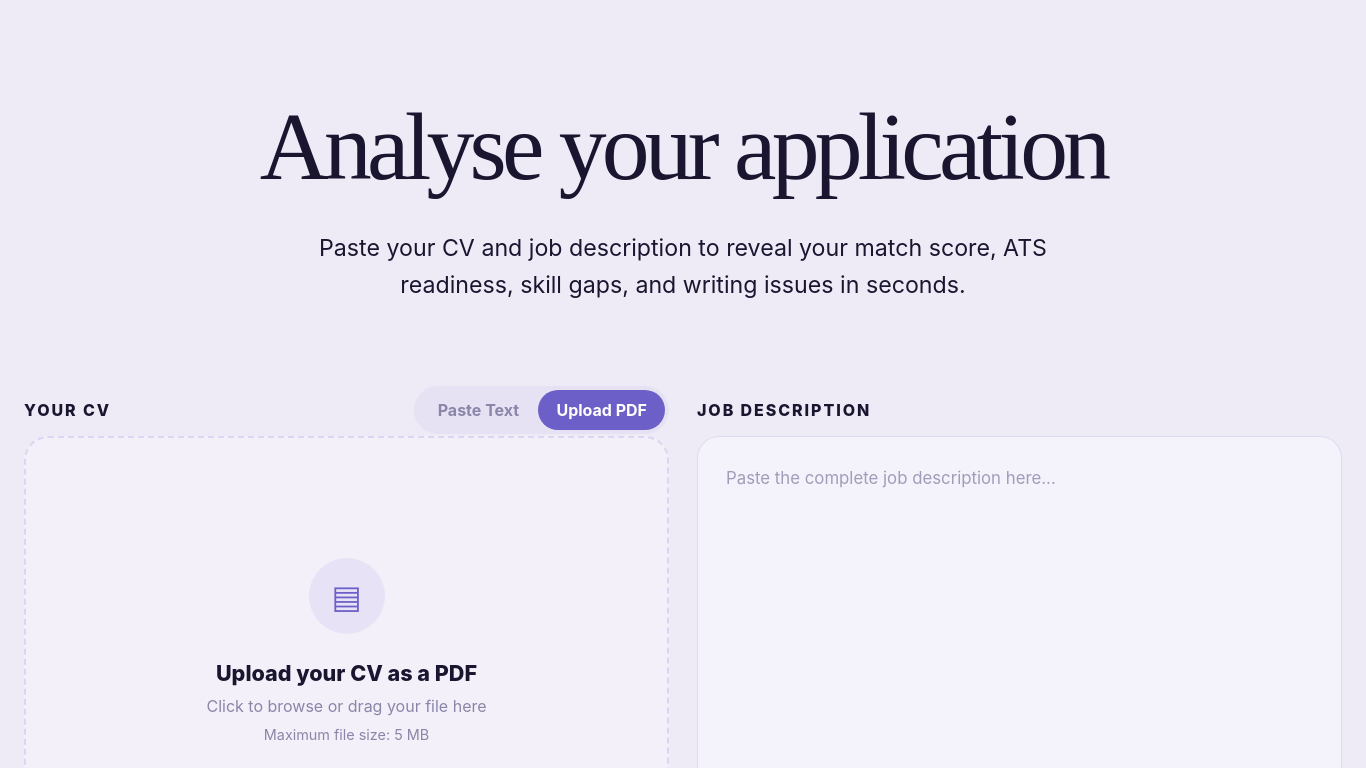
it: App › submits pasted CV text and displays analysis results
The image size is (1366, 768).
Click the button "Paste Text": click(478, 410) 418,390 -> 538,430
(page scrolled)
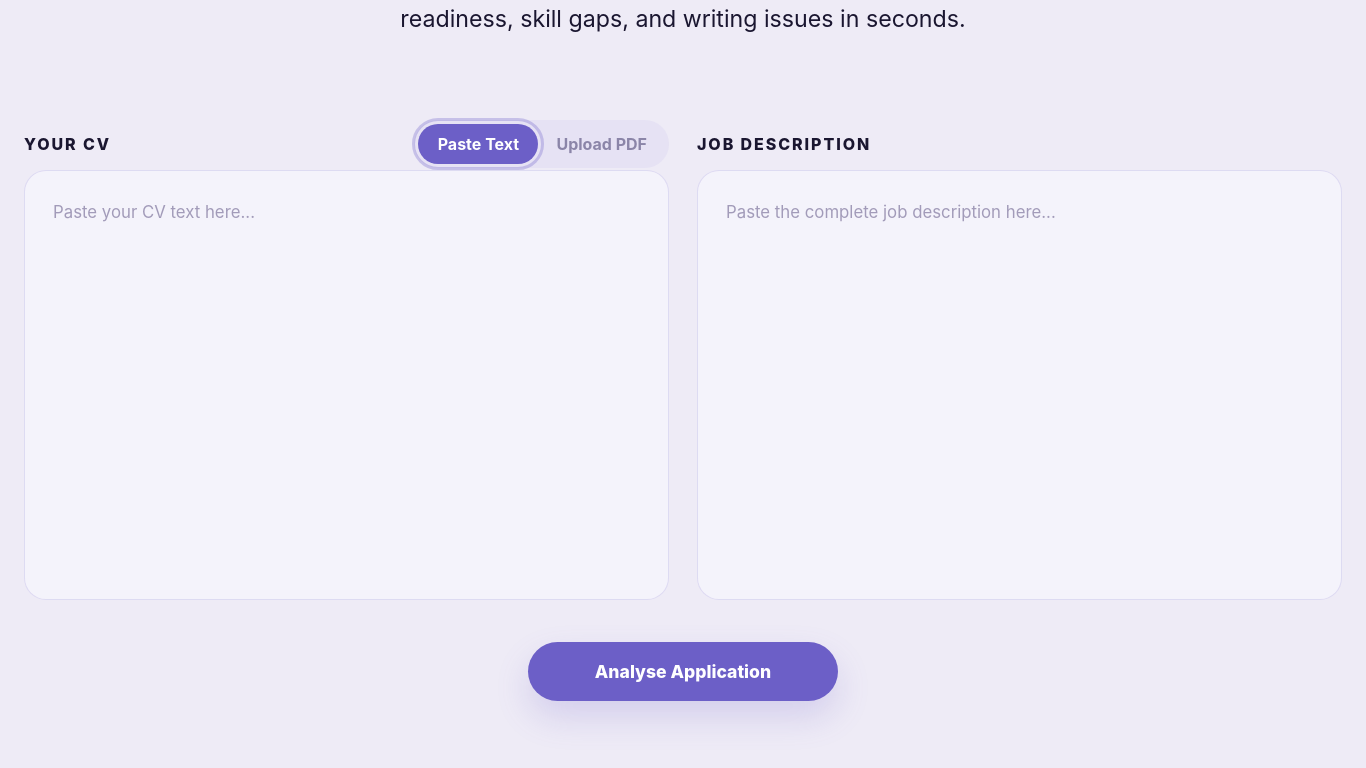
In the text box labelled "Paste your CV text here...": (346, 385) 24,170 -> 669,600, type "Python developer with FastAPI, React and PostgreSQL experience."
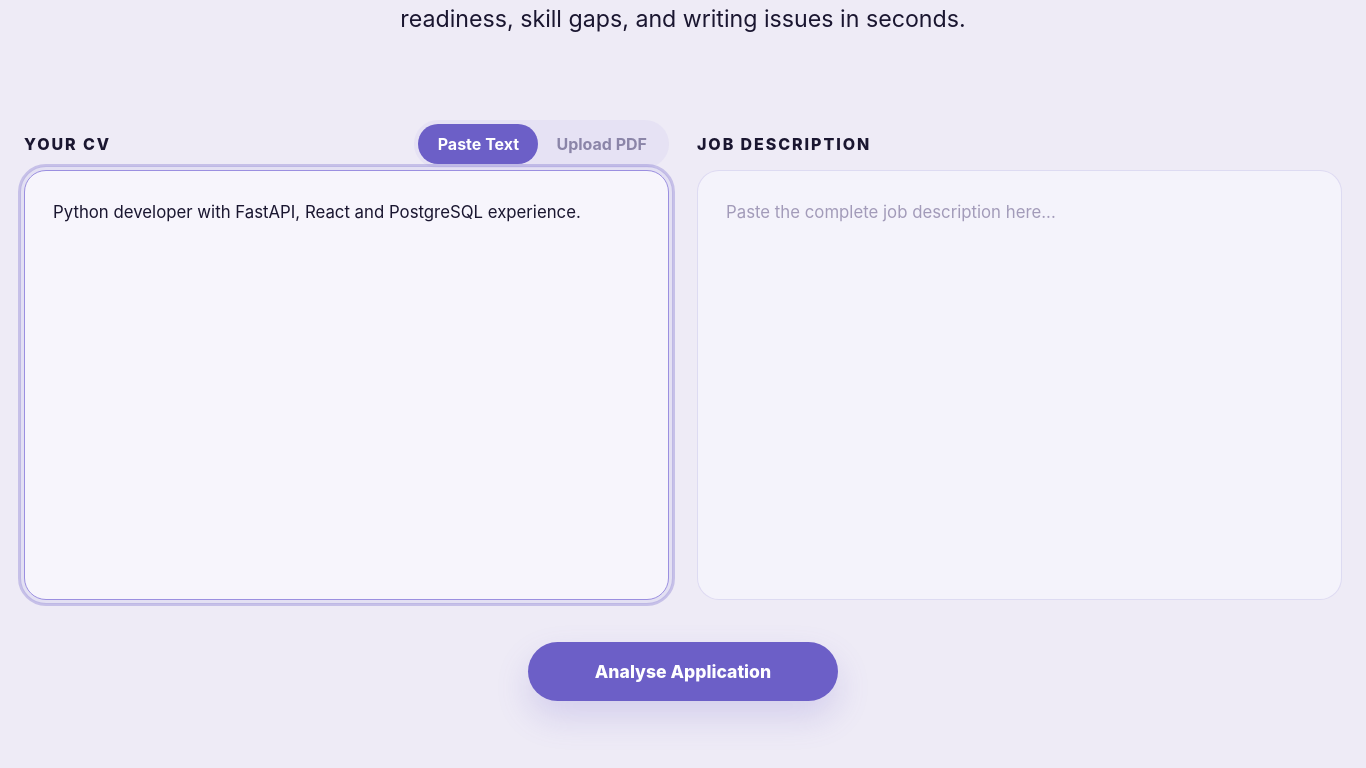
In the text box labelled "Paste the complete job description here...": (1020, 385) 697,170 -> 1342,600, type "We need a Python developer with FastAPI, React, Docker and AWS."
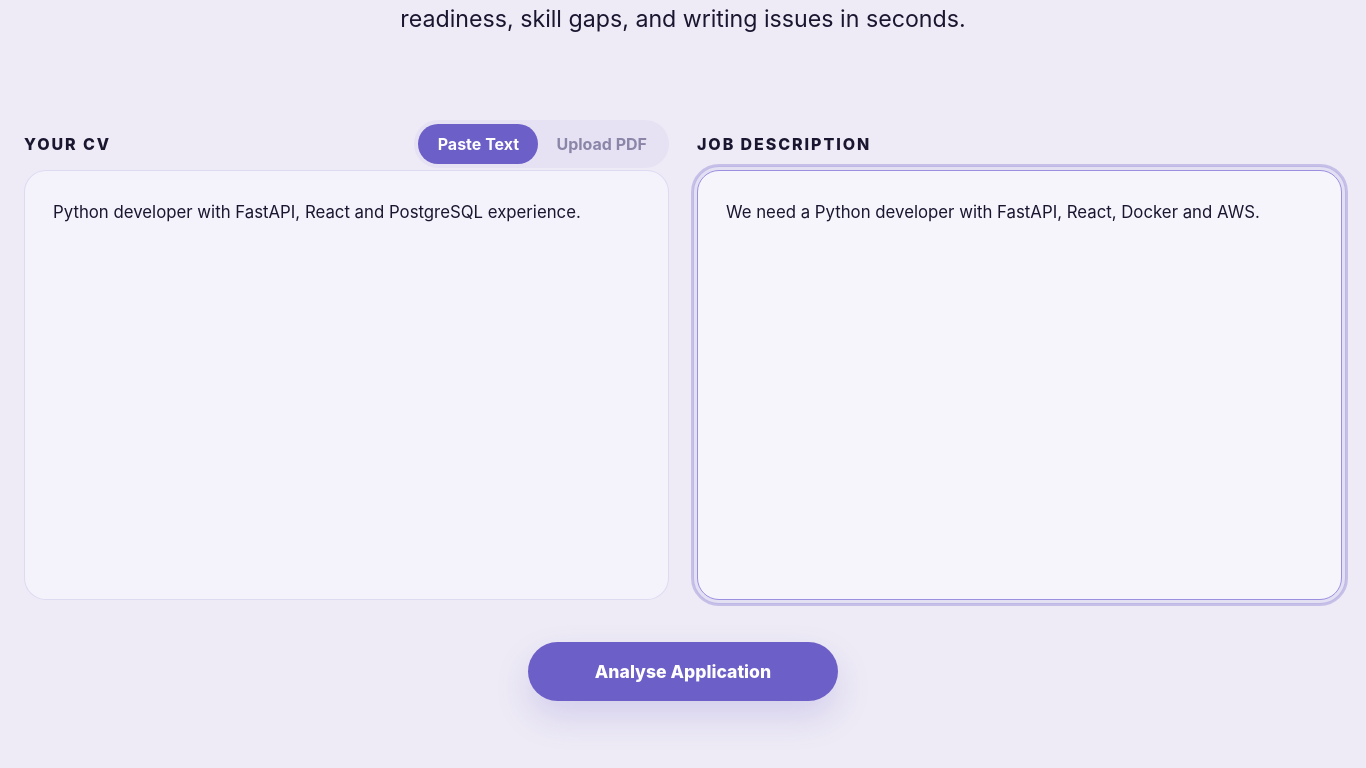
Click the button "Analyse Application": click(683, 671) 528,642 -> 838,701
(page scrolled)
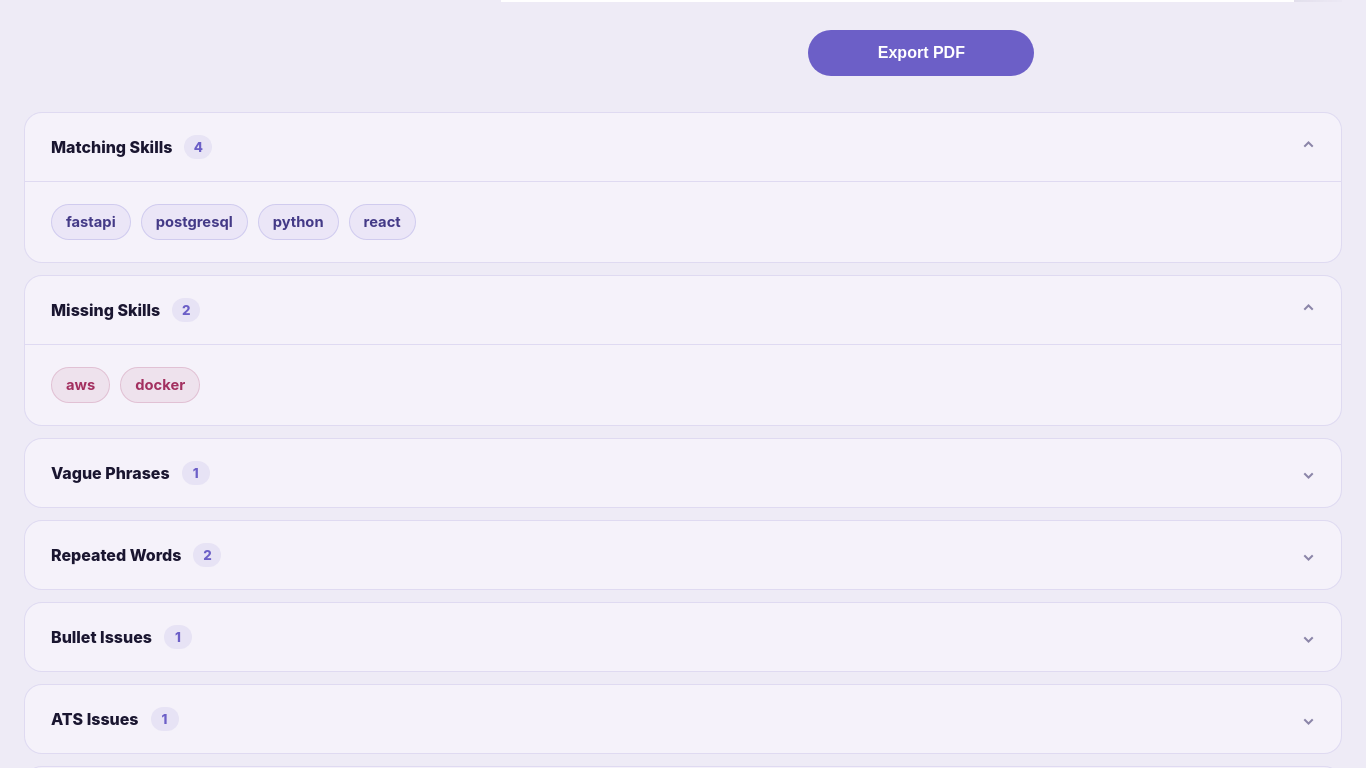
Check: the text "fastapi" is shown, box 51,204 -> 131,240
Check: the text "docker" is shown, box 120,367 -> 200,403
